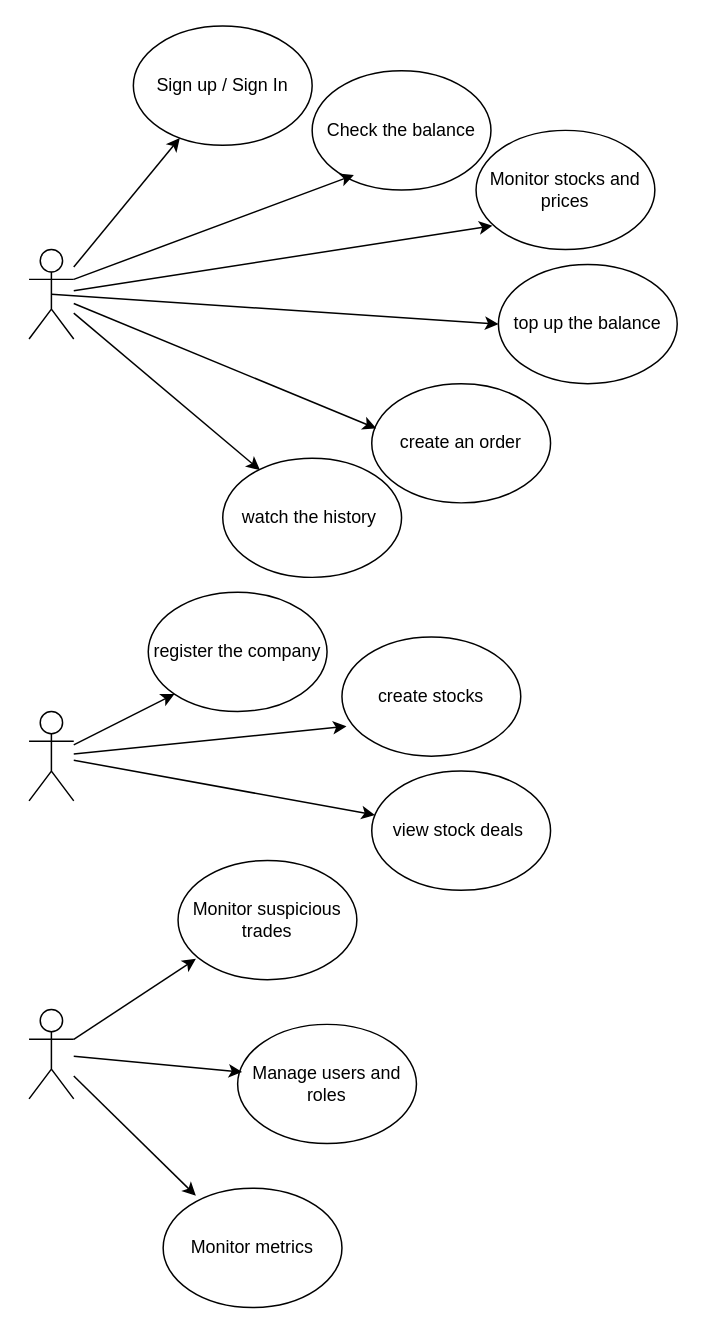
Image size: 703x1334. Some labels were removed from this diagram. Here are the shapes that lost their labels. From the top down, the centre of each, then its label:
point 51,293: Trador
point 51,755: Issuer
point 51,1053: Admin
